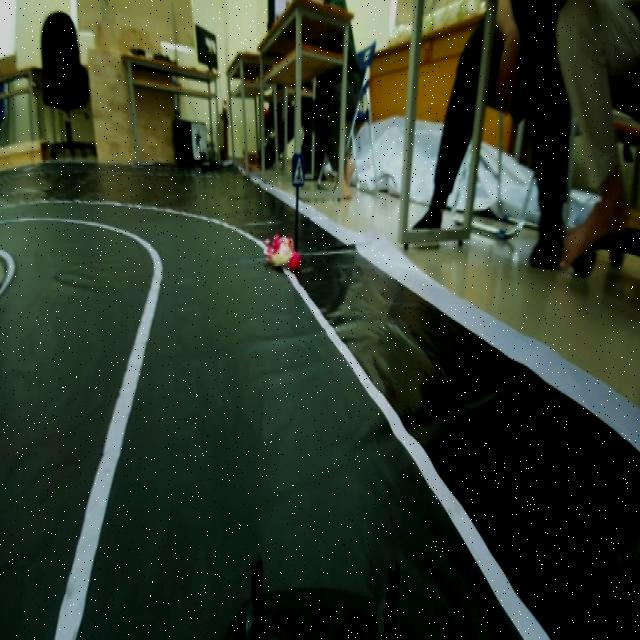crosswalk: (284, 152, 313, 198)
